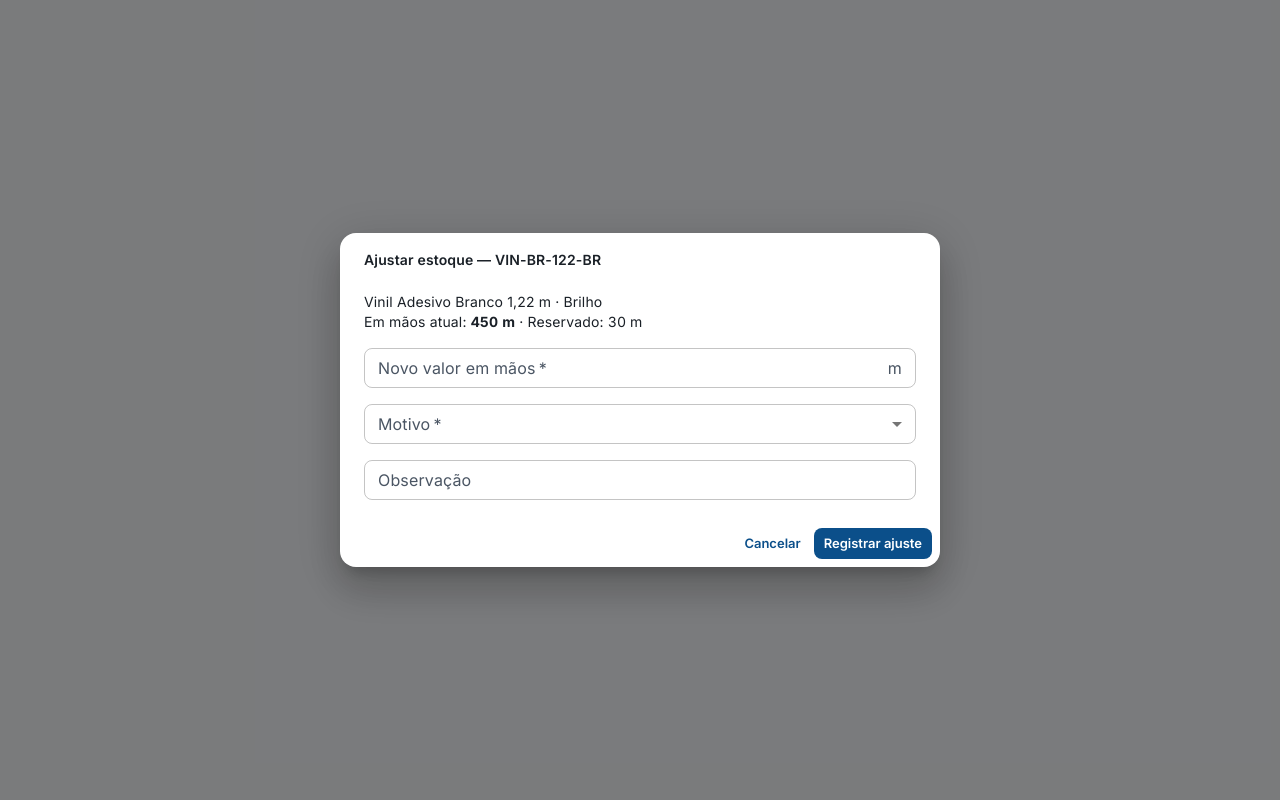
Test case: Ajuste de estoque › exige motivo e não envia sem ele
In the field labelled "Novo valor em mãos *": (622, 368) x1=364 y1=348 x2=880 y2=388, type "438"
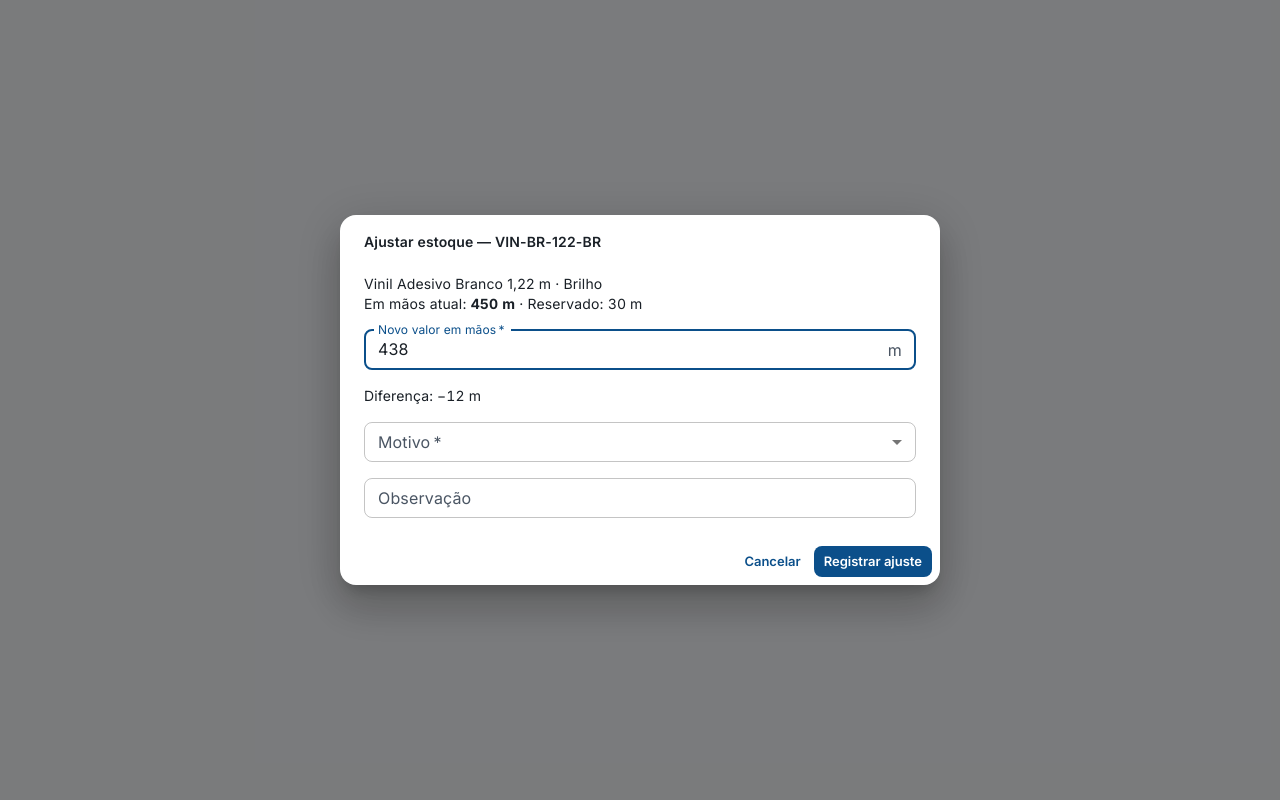
Expected: the message reads "Diferença: −12 m", x1=364 y1=387 x2=481 y2=404
Click the button "Registrar ajuste": (873, 561) x1=814 y1=546 x2=932 y2=577
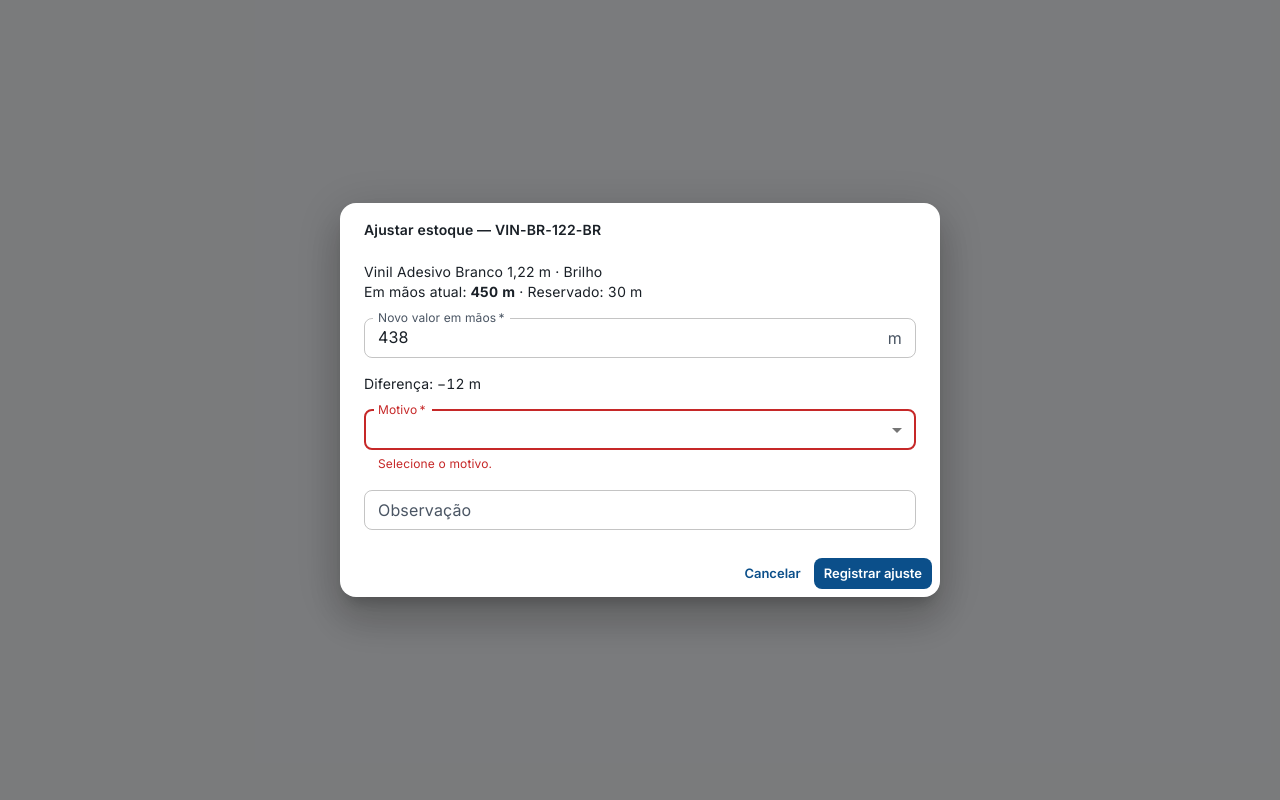
Expected: the text "Selecione o motivo." is shown, x1=378 y1=456 x2=492 y2=471
